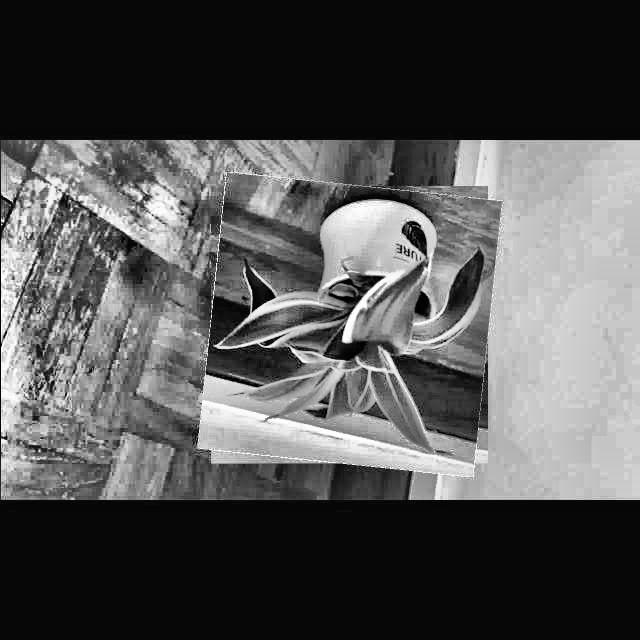plants: (203, 178, 494, 471)
